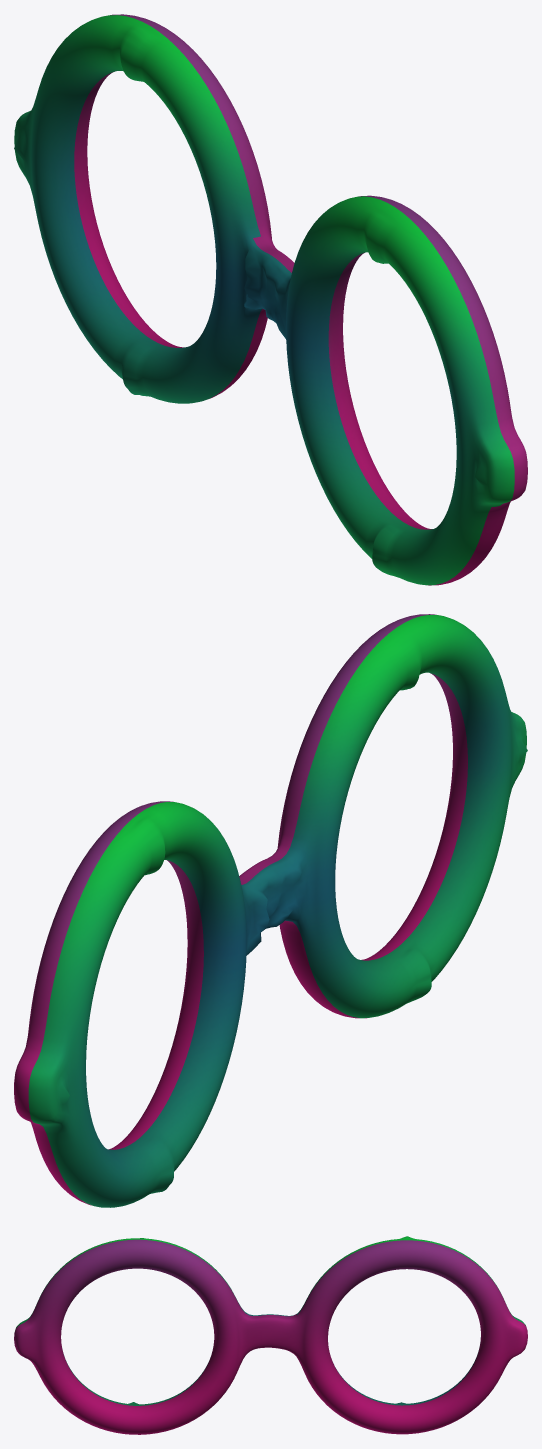
The model's file is glassed_handcuffs_done1.fbx.
3 views of the same model, one above another, from view 1: azimuth 30°, elevation 25°; view 2: azimuth 150°, elevation 25°; view 3: azimuth 270°, elevation 25° (orthographic). The views are drawn at different scales.
Visible parts, largest first — view 1: pTorus3; view 2: pTorus3; view 3: pTorus3.
Part boxes in pixels (x1,y1,x2,y2): pTorus3: (14,14,527,585); pTorus3: (14,614,527,1207); pTorus3: (14,1236,527,1434).
Bounding box in the file's own units: 1.18 × 5.89 × 14.1.
